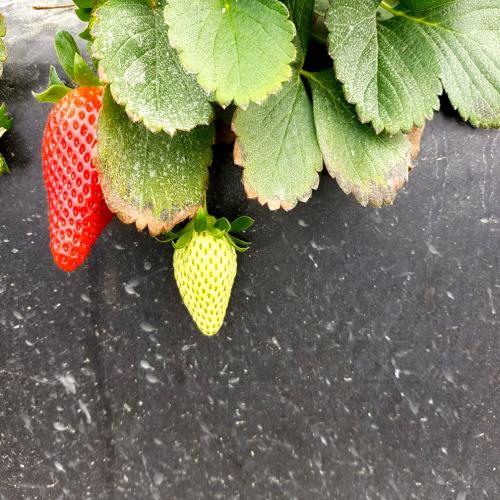ripe: (39, 85, 123, 273)
unripe: (166, 214, 245, 345)
